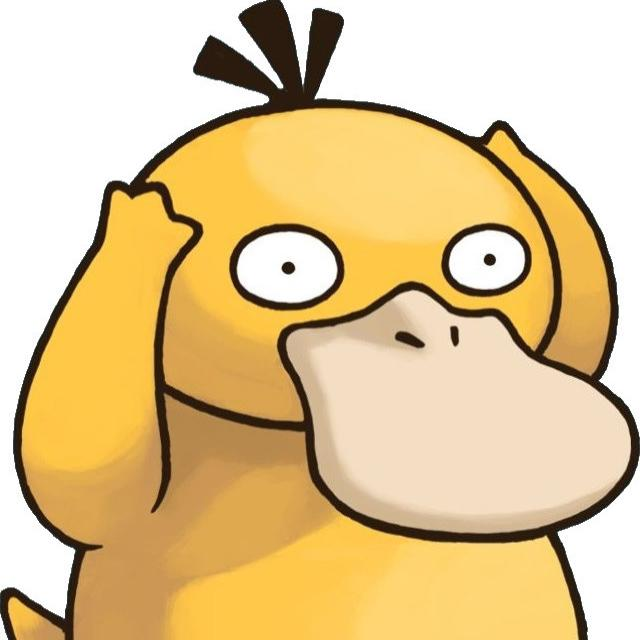Psyduck: (7, 112, 630, 640)
